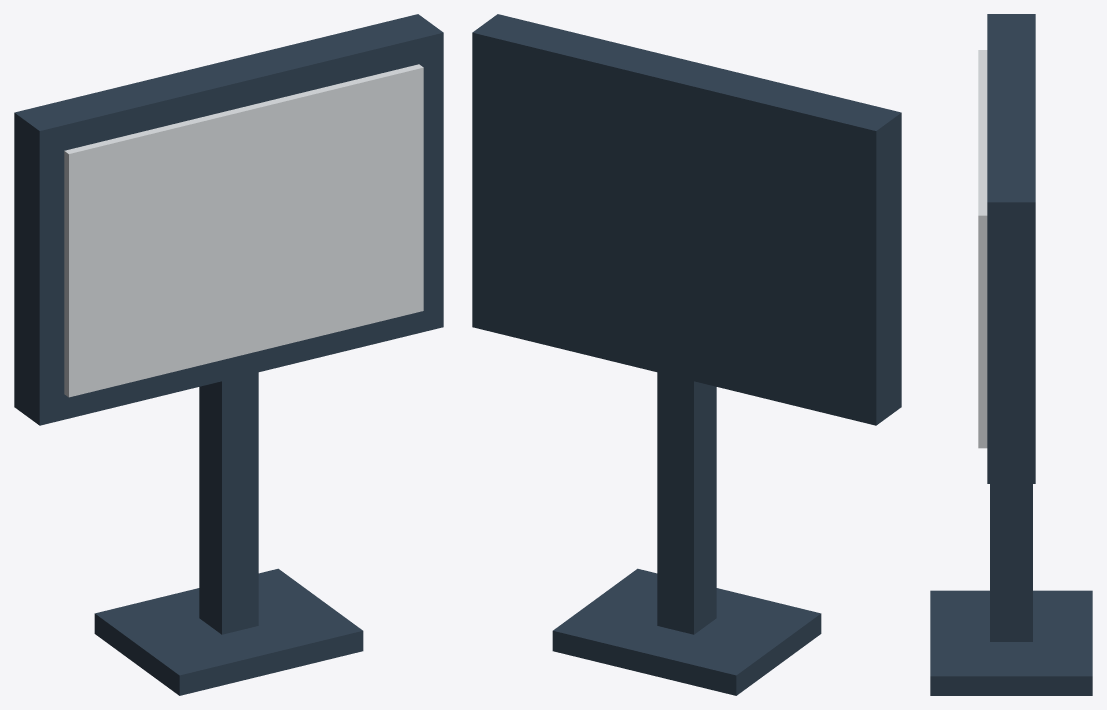
The model's file is painel_questoes.glb.
3 renders of one model, left to right at view 1: azimuth 30°, elevation 25°; view 2: azimuth 150°, elevation 25°; view 3: azimuth 270°, elevation 25°, orthographic. The views are drawn at different scales.
Parts seen in each view (by area): view 1: _MeshInstance3D_615, _MeshInstance3D_614, _MeshInstance3D_617, _MeshInstance3D_616; view 2: _MeshInstance3D_614, _MeshInstance3D_617, _MeshInstance3D_616; view 3: _MeshInstance3D_614, _MeshInstance3D_617, _MeshInstance3D_616, _MeshInstance3D_615.
Part boxes in pixels (box(x1,y1,x2,y2)): _MeshInstance3D_615: box(64, 64, 423, 397); _MeshInstance3D_614: box(14, 14, 443, 425); _MeshInstance3D_617: box(94, 568, 363, 695); _MeshInstance3D_616: box(199, 372, 258, 634); _MeshInstance3D_614: box(472, 14, 901, 425); _MeshInstance3D_617: box(552, 568, 821, 695); _MeshInstance3D_616: box(657, 372, 716, 634); _MeshInstance3D_614: box(987, 14, 1035, 483); _MeshInstance3D_617: box(930, 590, 1092, 695); _MeshInstance3D_616: box(990, 484, 1032, 641); _MeshInstance3D_615: box(978, 50, 987, 448).
Size of the model in its own units: 1.65 by 2.23 by 0.6.
